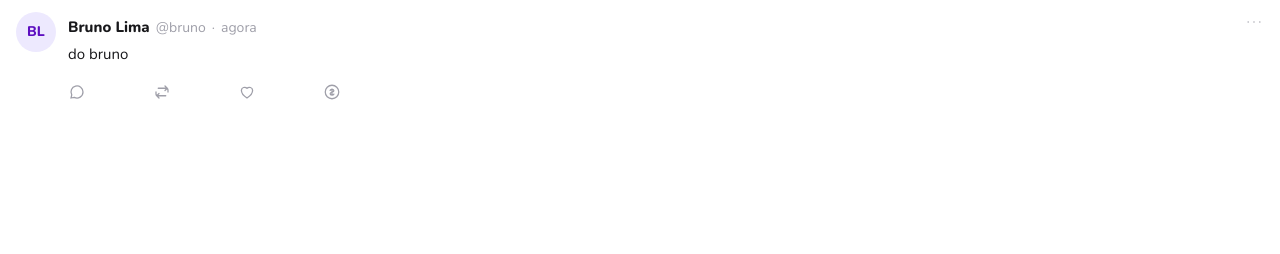
Test: moderação no feed › bloquear pede confirmação antes
Click the button named "Mais opções".
click(1254, 22)  # box [1236, 4, 1272, 40]
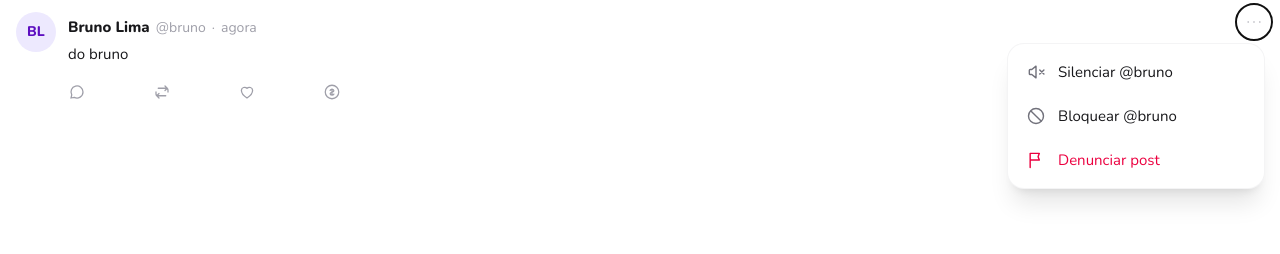
Click the menu item "Bloquear @bruno".
click(1136, 116)  # box [1014, 94, 1258, 138]
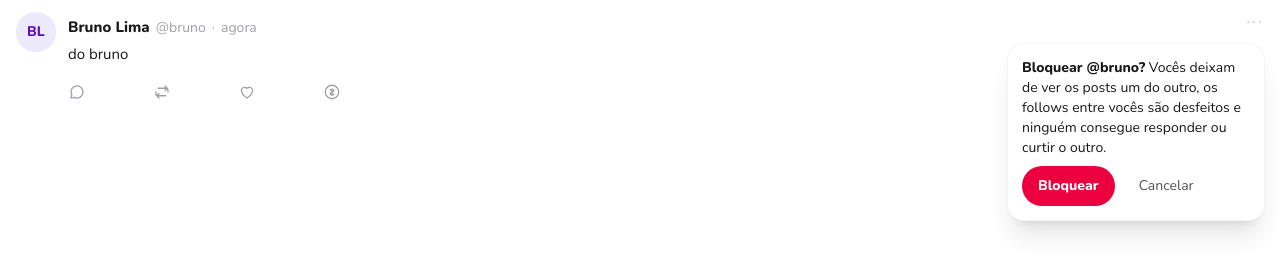
Now the text "Vocês deixam de ver os posts um do outro" is shown, box [1022, 58, 1241, 157]
Click the button "Bloquear".
click(1068, 186)  # box [1022, 166, 1115, 206]
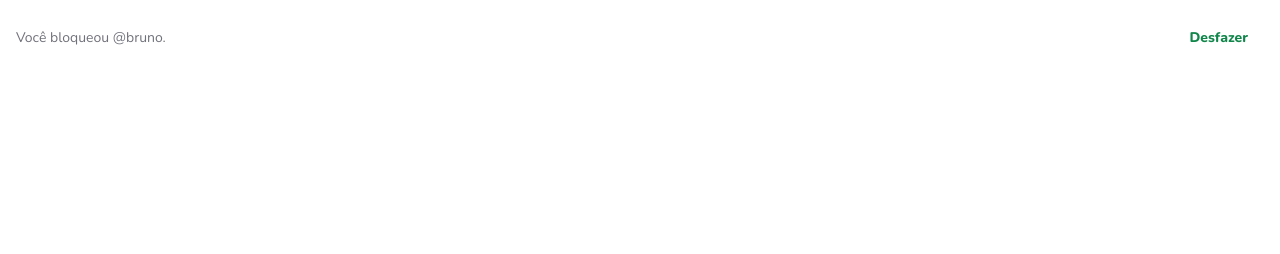
Now the text "Você bloqueou @bruno." is shown, box [16, 28, 166, 48]
